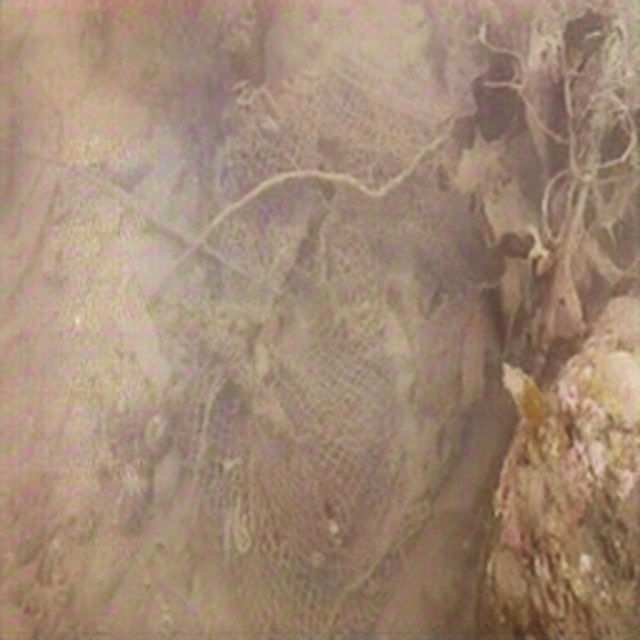mine: (181, 46, 485, 639)
